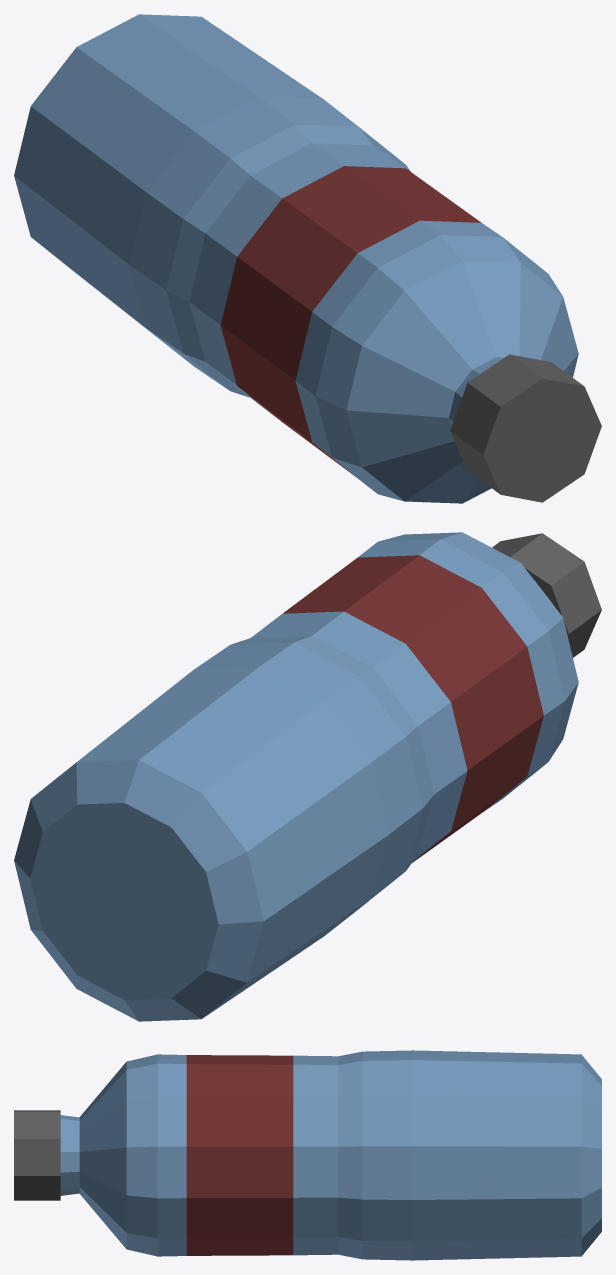
The model's file is SM_BottlePlasticC.glb.
3 renders of one model, top to bottom at view 1: azimuth 30°, elevation 25°; view 2: azimuth 150°, elevation 25°; view 3: azimuth 270°, elevation 25°, orthographic. The views are drawn at different scales.
Visible parts, largest first — view 1: part_00, part_01, part_02; view 2: part_00, part_01, part_02; view 3: part_00, part_01, part_02.
Part boxes in pixels (left/top/right/bottom): part_00: left=14, top=14, right=578, bottom=503; part_01: left=220, top=166, right=481, bottom=476; part_02: left=450, top=354, right=601, bottom=502; part_00: left=14, top=532, right=578, bottom=1021; part_01: left=283, top=555, right=543, bottom=862; part_02: left=492, top=533, right=601, bottom=657; part_00: left=60, top=1050, right=601, bottom=1260; part_01: left=186, top=1055, right=293, bottom=1255; part_02: left=14, top=1110, right=60, bottom=1200.
Bounding box in the file's own units: 0.0973 × 0.0973 × 0.2713.
